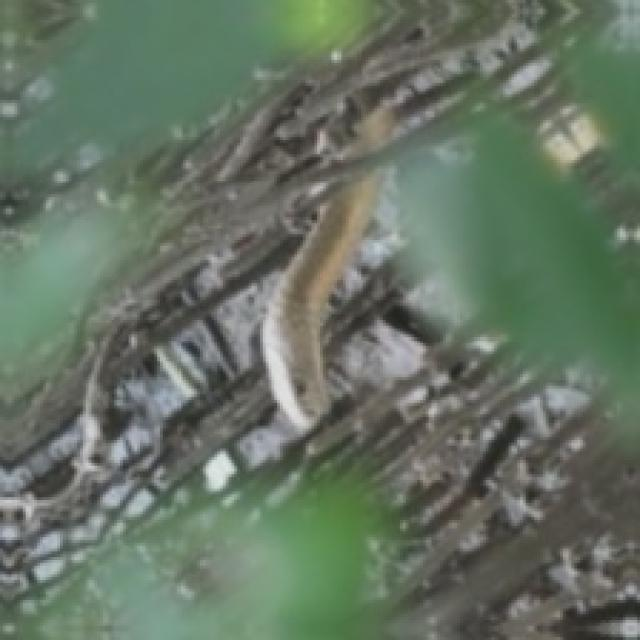king cobra: (0, 0, 637, 637), (0, 0, 103, 140)
